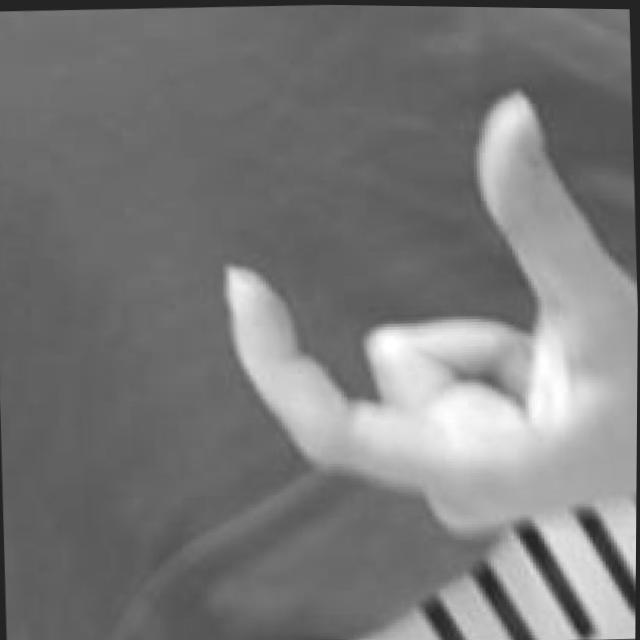U: (214, 73, 639, 552)
